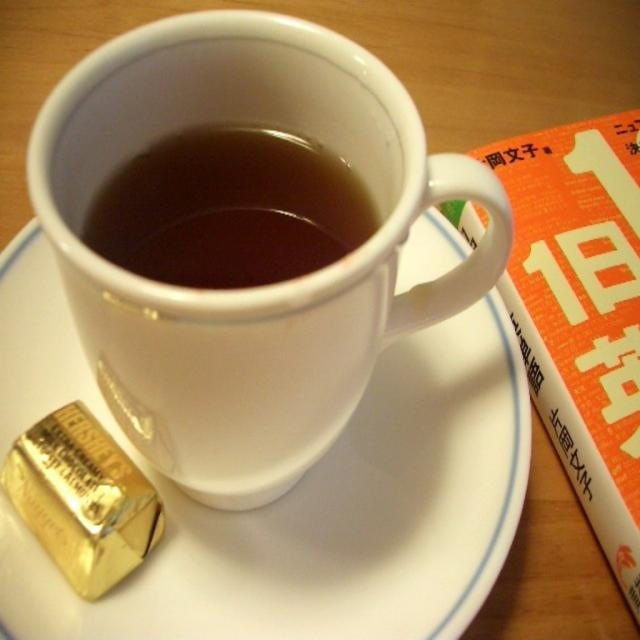Coffee: (82, 123, 385, 284)
Tea: (83, 130, 383, 288)
